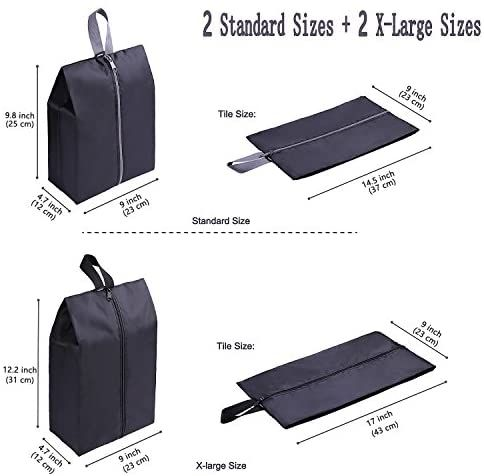nylon: (47, 6, 438, 457)
